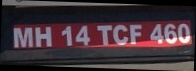character: (12, 27, 33, 48), (34, 26, 51, 47), (95, 24, 112, 45), (112, 24, 128, 45), (149, 22, 163, 44), (75, 25, 89, 46), (164, 22, 177, 44), (60, 25, 73, 46), (129, 24, 142, 45), (177, 23, 190, 43)
